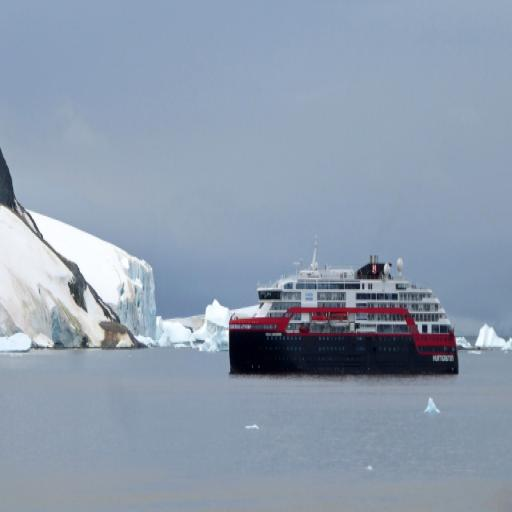cruises: (228, 237, 461, 386)
